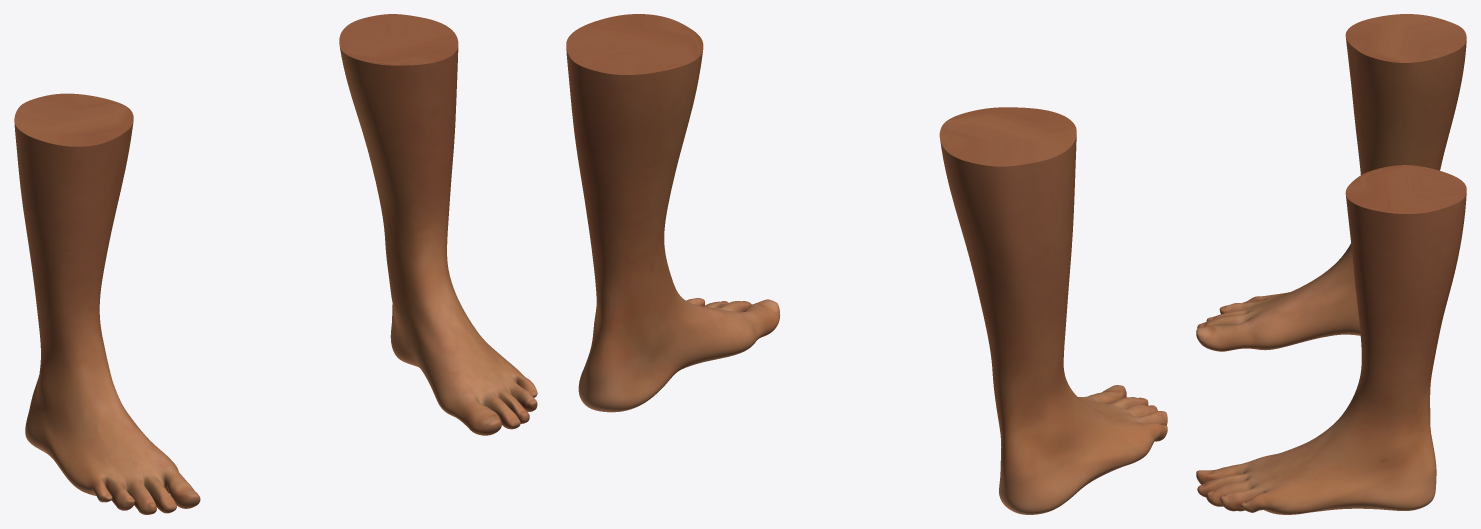
Rendered from female-feet-shins.glb.
3 views of the same model, side by side, from view 1: azimuth 30°, elevation 25°; view 2: azimuth 150°, elevation 25°; view 3: azimuth 270°, elevation 25° (orthographic). The views are drawn at different scales.
Parts seen in each view (by area): view 1: RightFootAndShin, LeftFootAndShin; view 2: RightFootAndShin, LeftFootAndShin; view 3: LeftFootAndShin, RightFootAndShin.
Boxes of the visible parts, <box> form: RightFootAndShin: <box>14,93,200,514</box>; LeftFootAndShin: <box>339,14,537,435</box>; RightFootAndShin: <box>939,107,1167,514</box>; LeftFootAndShin: <box>566,14,780,412</box>; LeftFootAndShin: <box>1196,165,1466,514</box>; RightFootAndShin: <box>1196,14,1466,351</box>.
Size of the model in its own units: 0.4507 by 0.309 by 0.2476.
Materials: 1 (1 with a texture image).
